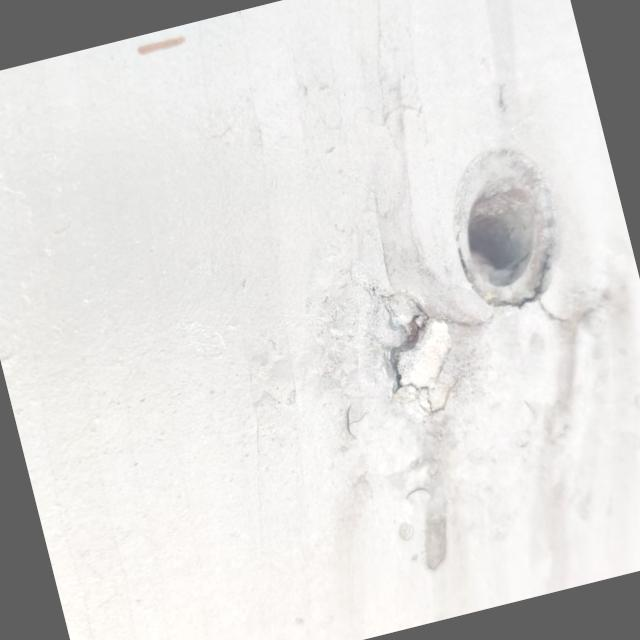crack: (354, 264, 511, 432)
